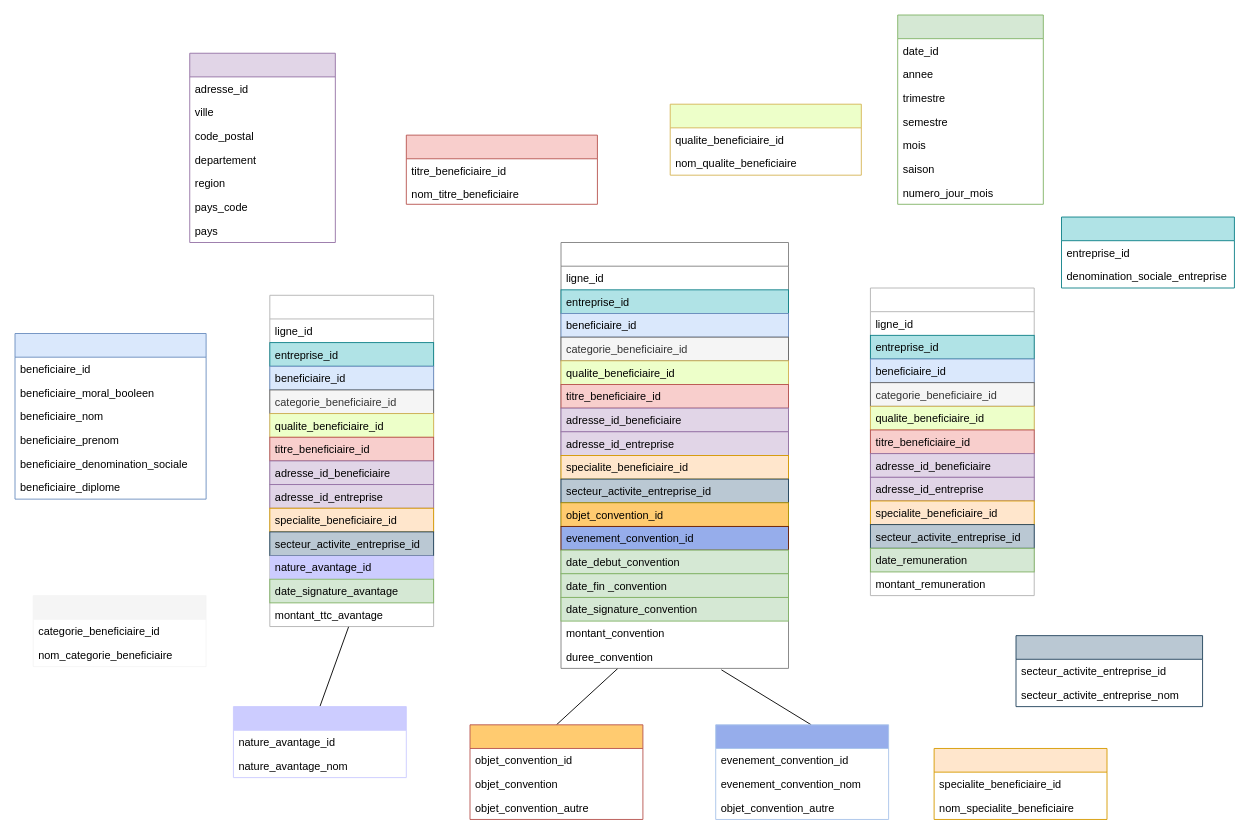
This 1249x834 diagram has some shape labels left out. The shapes that lost their labels are listed below. From the top down, each one's box as (x1, y1, x2, y2) in pixels, then its label:
(897, 14, 1043, 204): TempsDim
(189, 52, 335, 243): AdresseDim
(669, 103, 861, 175): QualiteBeneficiaireDim
(405, 134, 597, 204): TitreBeneficiaireDim
(1061, 216, 1234, 288): EntrepriseDim
(14, 333, 206, 499): BeneficiaireDim
(269, 294, 434, 627): AvantageFact
(560, 242, 789, 668): ConventionFact
(870, 287, 1034, 596): RemunerationFact
(32, 595, 206, 667): CategorieBeneficiaireDim
(1015, 635, 1203, 707): SecteurActiviteEntrepriseDim
(233, 706, 406, 778): NatureAvantageDim
(469, 724, 643, 819): ObjetConventionDim
(715, 724, 889, 819): EvenementConventionDim
(933, 748, 1107, 819): SpecialiteBeneficiaireDim
